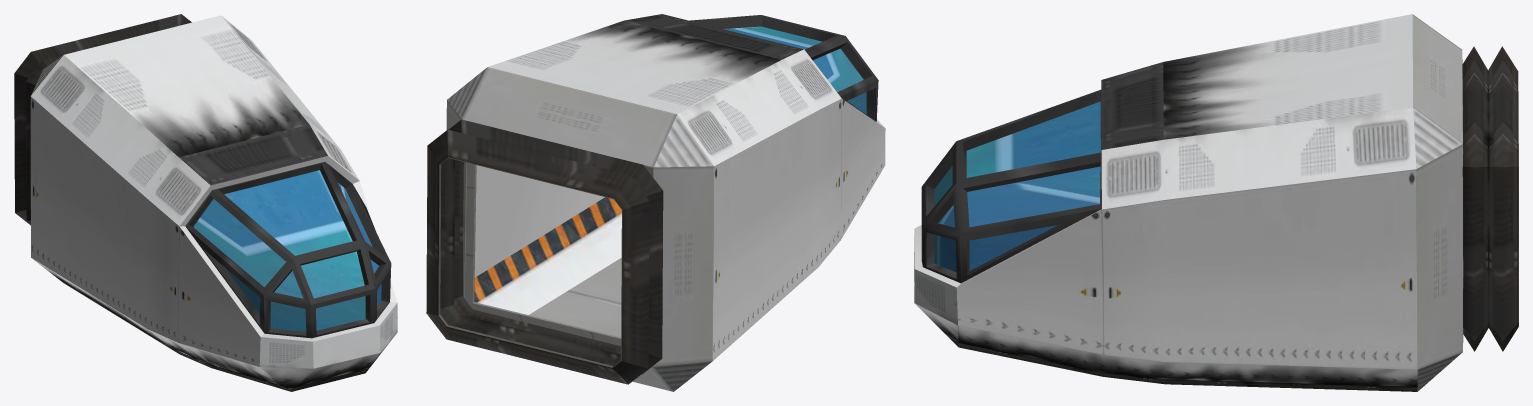
File: ufo.glb
3 renders of one model, left to right at view 1: azimuth 30°, elevation 25°; view 2: azimuth 150°, elevation 25°; view 3: azimuth 270°, elevation 25°, orthographic. The views are drawn at different scales.
Parts seen in each view (by area): view 1: Colony_UFO_Art; view 2: Colony_UFO_Art; view 3: Colony_UFO_Art.
Part boxes in pixels (box(x1,y1,x2,y2)): Colony_UFO_Art: box(14, 14, 397, 391); Colony_UFO_Art: box(426, 14, 885, 391); Colony_UFO_Art: box(914, 14, 1518, 391).
Bounding box in the file's own units: 3.64 × 3.6 × 6.93.
Materials: 2 (2 with a texture image).
